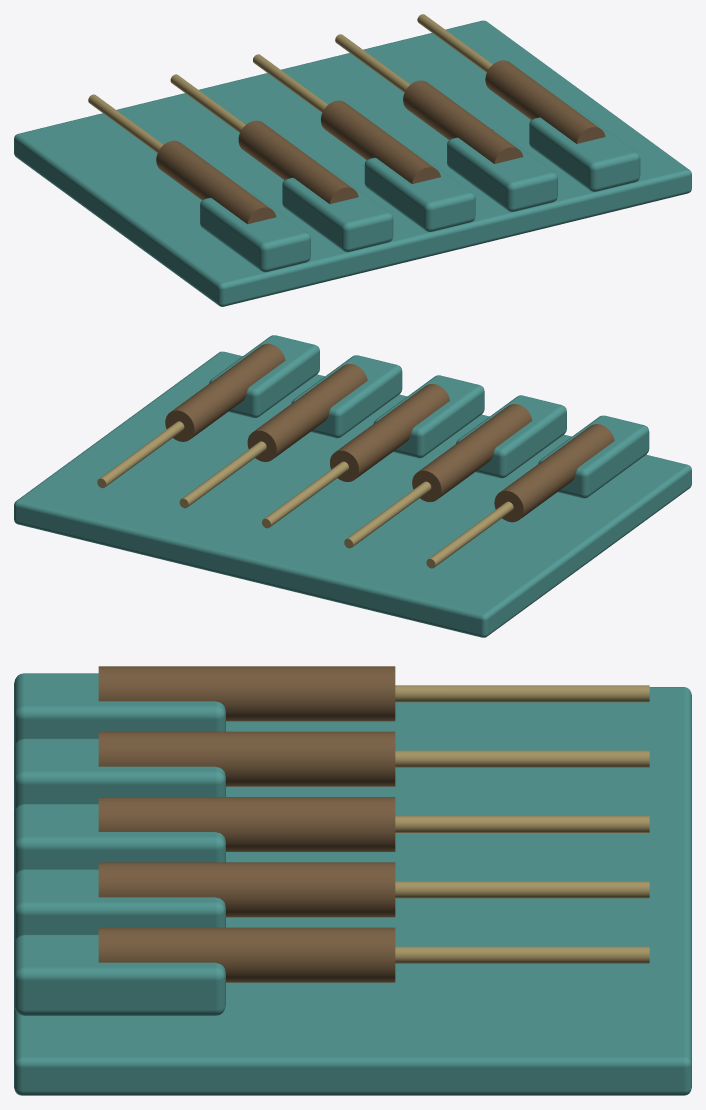
The model's file is water-clock-garden-and-hydraulic-puzzles-nozzle-cleani-5fa2bee1__31963.glb.
3 views of the same model, one above another, from view 1: azimuth 30°, elevation 25°; view 2: azimuth 150°, elevation 25°; view 3: azimuth 270°, elevation 25° (orthographic). The views are drawn at different scales.
Parts seen in each view (by area): view 1: nozzle-cleaning-tool-roll; view 2: nozzle-cleaning-tool-roll; view 3: nozzle-cleaning-tool-roll.
Part boxes in pixels (box(x1,y1,x2,y2)): nozzle-cleaning-tool-roll: box(14, 14, 691, 306); nozzle-cleaning-tool-roll: box(14, 335, 691, 637); nozzle-cleaning-tool-roll: box(14, 666, 691, 1095).
Size of the model in its own units: 0.42 by 0.056 by 0.32.
